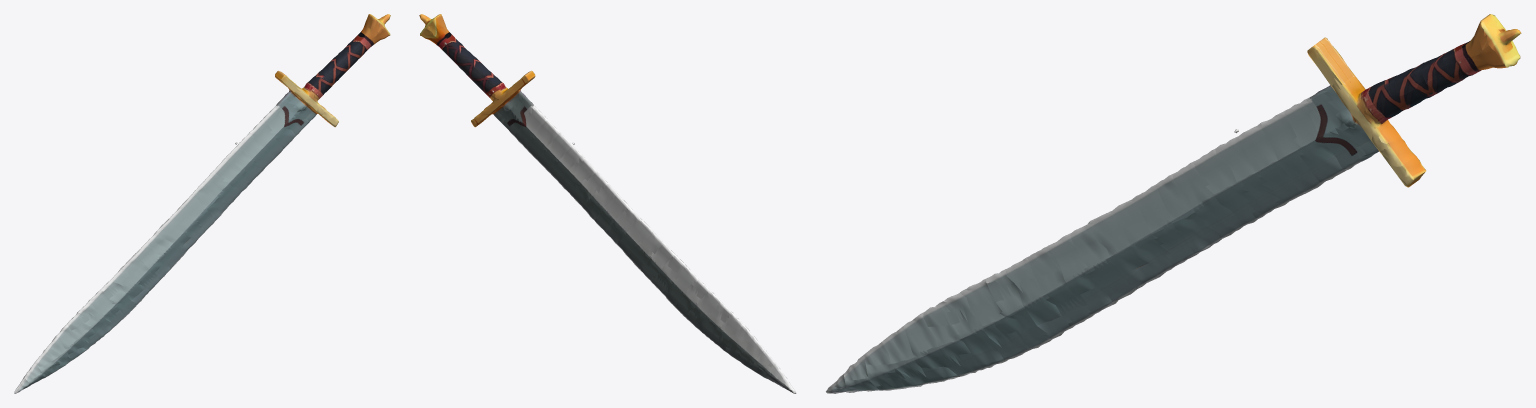
Rendered from weapon_iron_sword.glb.
3 views of the same model, side by side, from view 1: azimuth 30°, elevation 25°; view 2: azimuth 150°, elevation 25°; view 3: azimuth 330°, elevation 25° (orthographic). The views are drawn at different scales.
Visible parts, largest first — view 1: hollow_normalise; view 2: hollow_normalise; view 3: hollow_normalise.
Part boxes in pixels (bbox=[...]): hollow_normalise: bbox=[14, 14, 390, 393]; hollow_normalise: bbox=[419, 14, 796, 393]; hollow_normalise: bbox=[826, 14, 1521, 393].
Bounding box in the file's own units: 1.49 × 1.1 × 0.0582.
1 material, 1 textured.
